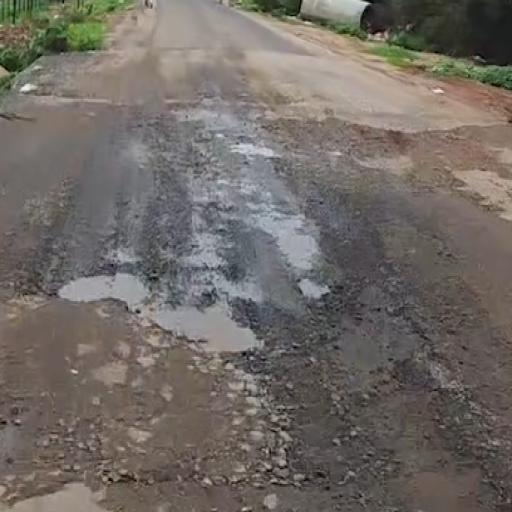pothole: (32, 229, 287, 378)
ravelling: (26, 396, 506, 502)
